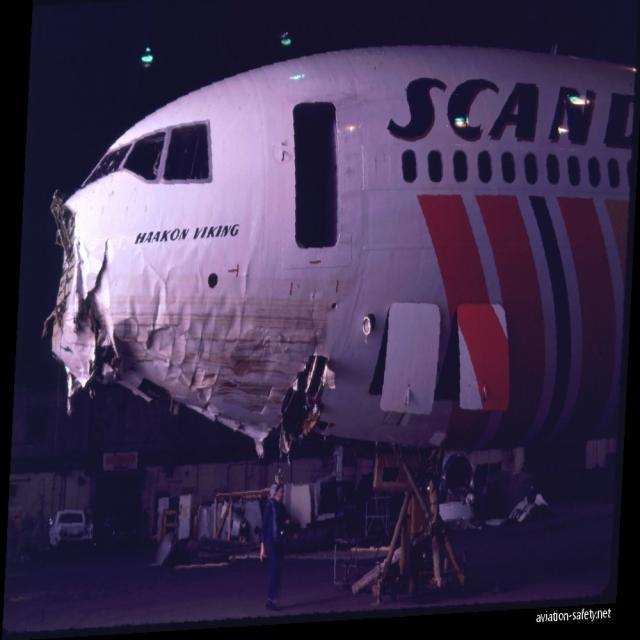crack: (80, 237, 117, 320), (306, 287, 326, 355)
dent: (120, 253, 187, 345), (245, 340, 281, 384)
